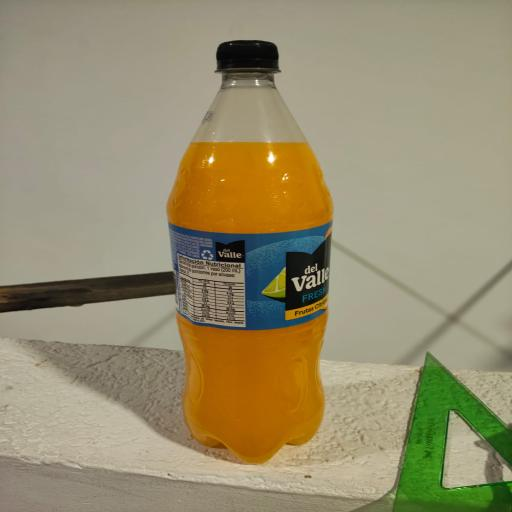Jugo del valle: (139, 30, 353, 471)
